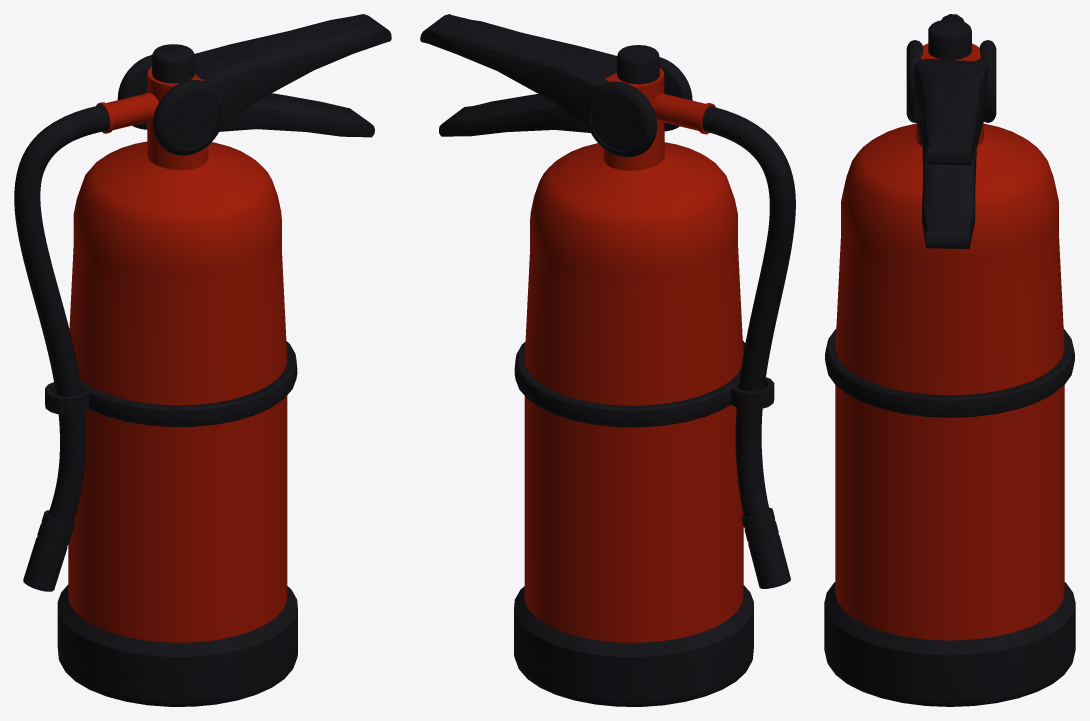
File: fire_extinguisher.fbx
3 views of the same model, side by side, from view 1: azimuth 30°, elevation 25°; view 2: azimuth 150°, elevation 25°; view 3: azimuth 270°, elevation 25° (orthographic). The views are drawn at different scales.
Parts seen in each view (by area): view 1: gövde.001, halka.003, Cube, boru, halka, Torus.005, halka.002, Cylinder.001, gövde, Torus.001, halka.001; view 2: gövde.001, halka.003, Cube, boru, halka, Torus.001, halka.002, Cylinder.001, gövde, Torus.005, halka.001; view 3: gövde.001, halka.003, Cube, halka, Cylinder.001, Torus.001, Torus.005.
Part boxes in pixels (<box>): gövde.001: <box>68,66,287,642</box>; halka.003: <box>57,584,297,706</box>; Cube: <box>194,14,391,137</box>; boru: <box>14,105,109,522</box>; halka: <box>80,341,297,426</box>; Torus.005: <box>153,80,224,155</box>; halka.002: <box>23,510,75,591</box>; Cylinder.001: <box>152,44,194,83</box>; gövde: <box>96,92,158,133</box>; Torus.001: <box>117,55,152,129</box>; halka.001: <box>45,382,89,415</box>; gövde.001: <box>524,67,743,642</box>; halka.003: <box>514,585,753,706</box>; Cube: <box>420,14,617,136</box>; boru: <box>702,106,795,517</box>; halka: <box>514,340,745,427</box>; Torus.001: <box>585,81,657,157</box>; halka.002: <box>741,507,790,588</box>; Cylinder.001: <box>617,45,659,84</box>; gövde: <box>651,93,715,134</box>; Torus.005: <box>659,57,692,131</box>; halka.001: <box>730,377,774,409</box>; gövde.001: <box>835,43,1064,640</box>; halka.003: <box>824,582,1075,706</box>; Cube: <box>913,58,988,248</box>; halka: <box>825,329,1074,417</box>; Cylinder.001: <box>928,19,971,59</box>; Torus.001: <box>979,40,996,122</box>; Torus.005: <box>906,40,922,122</box>.
Bounding box in the file's own units: 380 × 603 × 219.
Materials: 3 (3 with a texture image).
